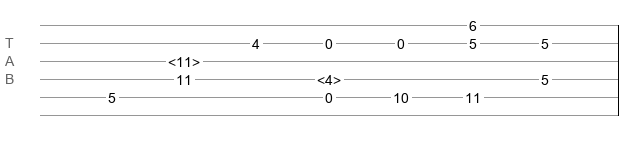0: (325, 36, 333, 46), (325, 90, 333, 100), (397, 36, 405, 46)
10: (393, 90, 409, 100)
11: (176, 72, 192, 82), (465, 90, 481, 100)
4: (252, 36, 260, 46)
5: (108, 90, 116, 100), (469, 36, 477, 46), (541, 36, 549, 46), (541, 72, 549, 82)
6: (469, 18, 477, 28)
harmonic: (168, 54, 200, 64), (317, 72, 341, 82)
